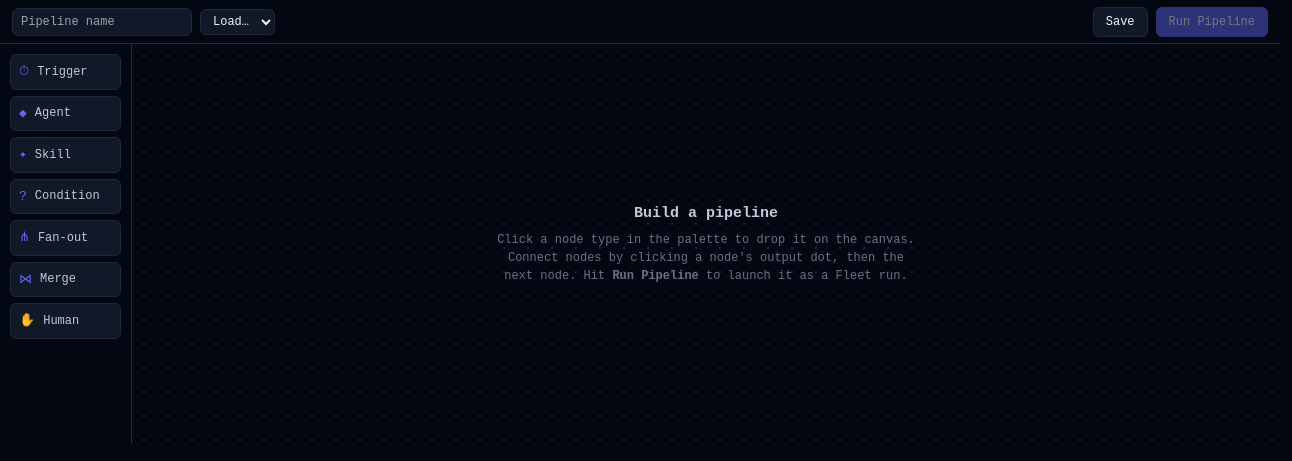
Test: PipelineCanvas › adds a node to the canvas when a palette type is clicked, and hides the empty prompt
Click the button "◆ Agent": click(66, 113) [10,96,121,131]
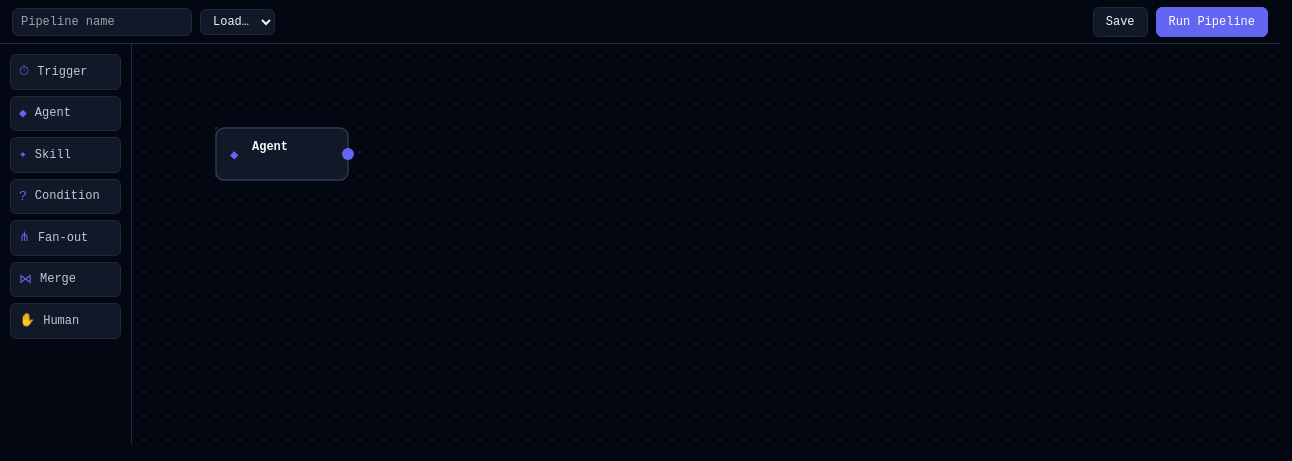
expect the element with test id "pipeline-empty-prompt" is gone: met
